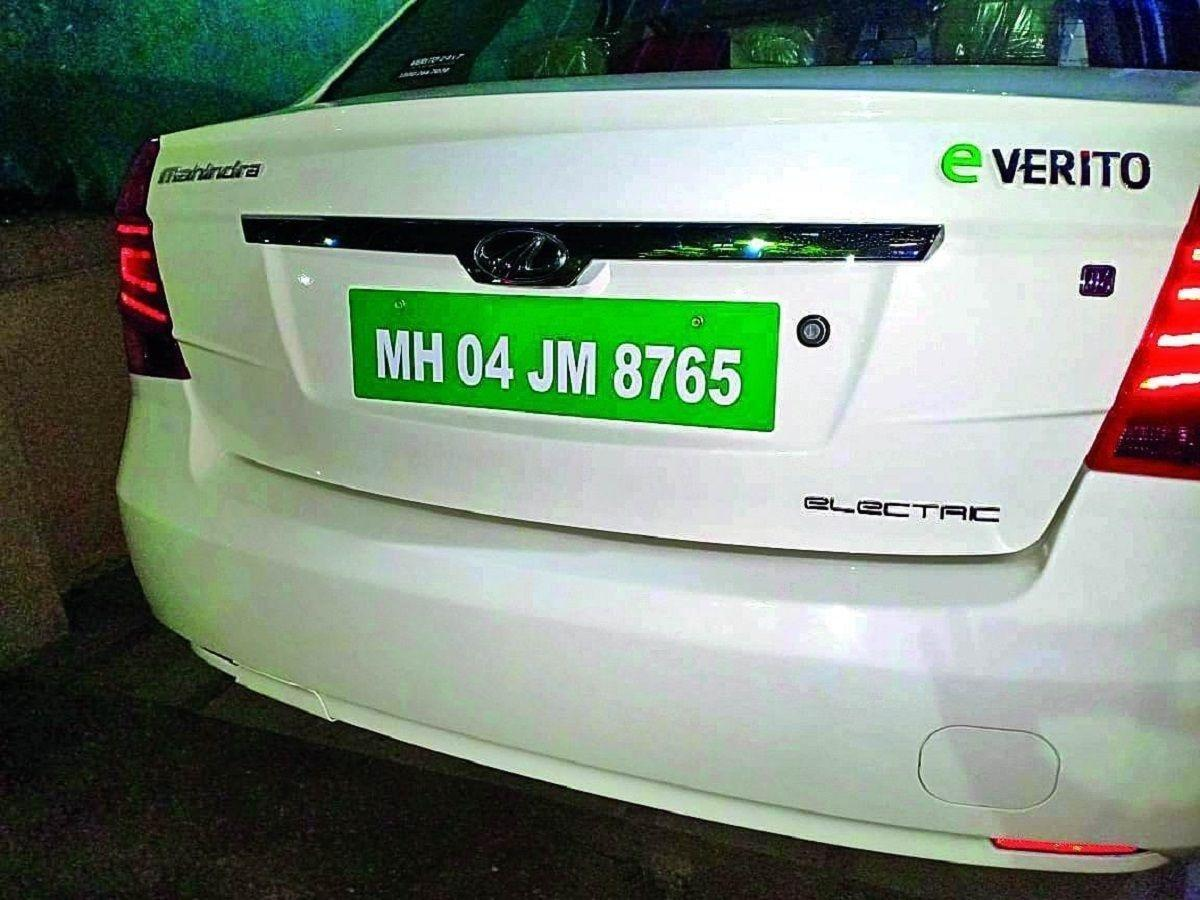Liscence Plate: (350, 289, 794, 436)
